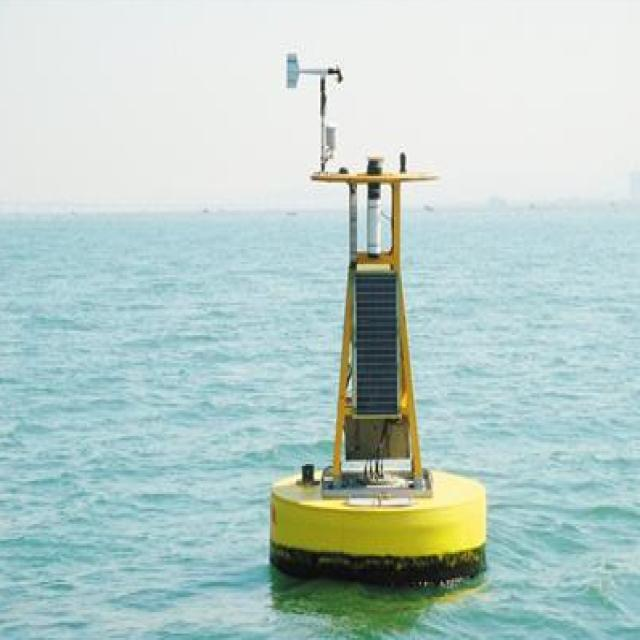buoy: (258, 110, 492, 576)
